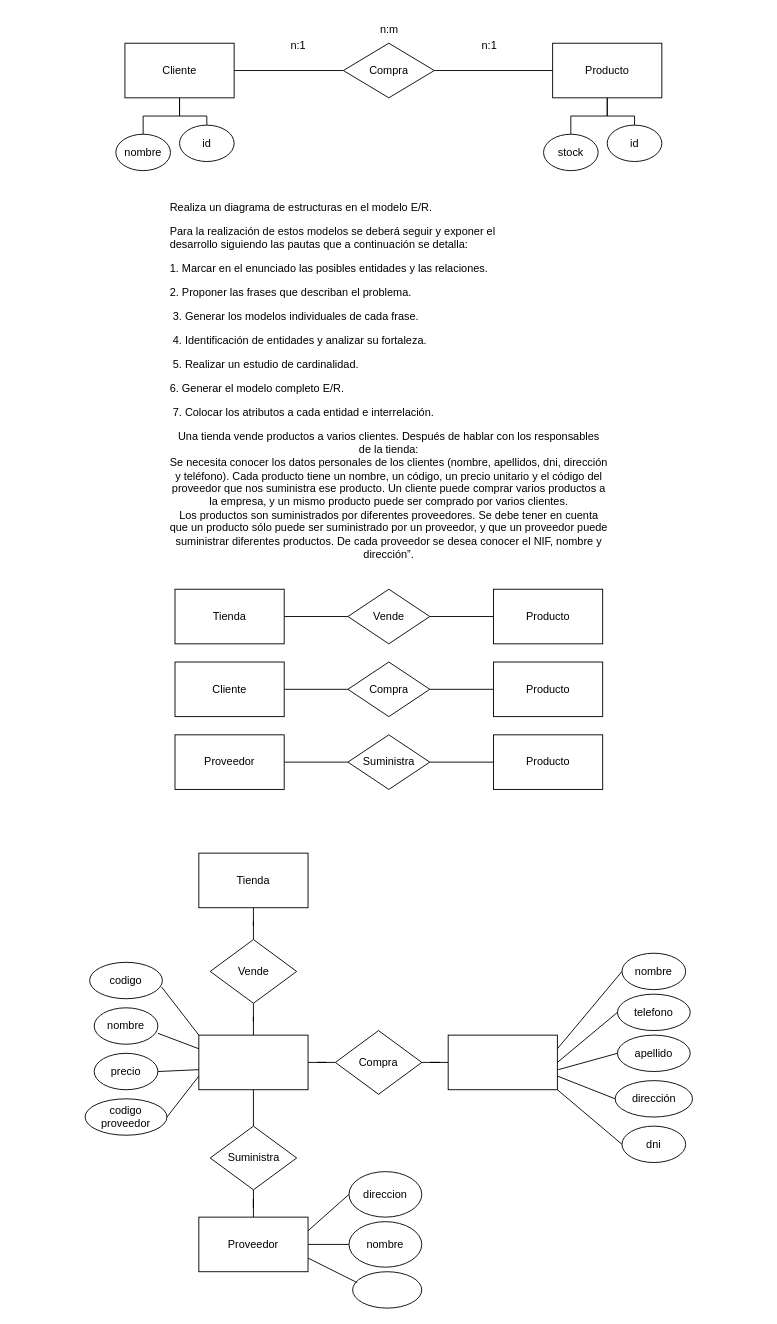
The diagram is 777 pixels wide and 1324 high, and some of its shapes have lost their labels. The shapes that lost their labels are listed below. From the top down, each one's centre as x and y in pixels, then its label:
point (253, 1062): Productos
point (502, 1062): Clientes
point (387, 1289): NIF
